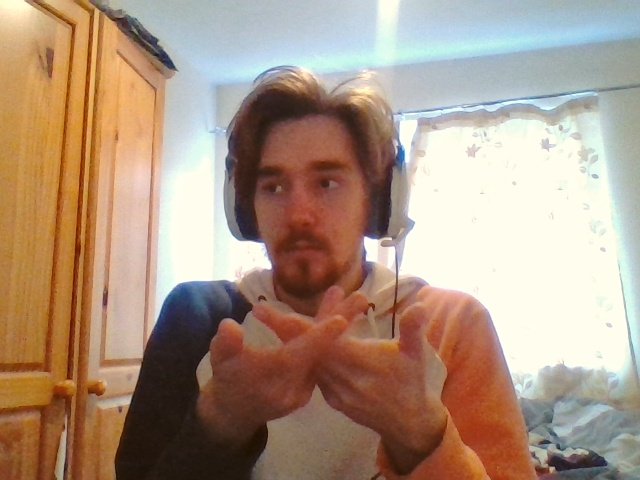how: (202, 286, 447, 429)
